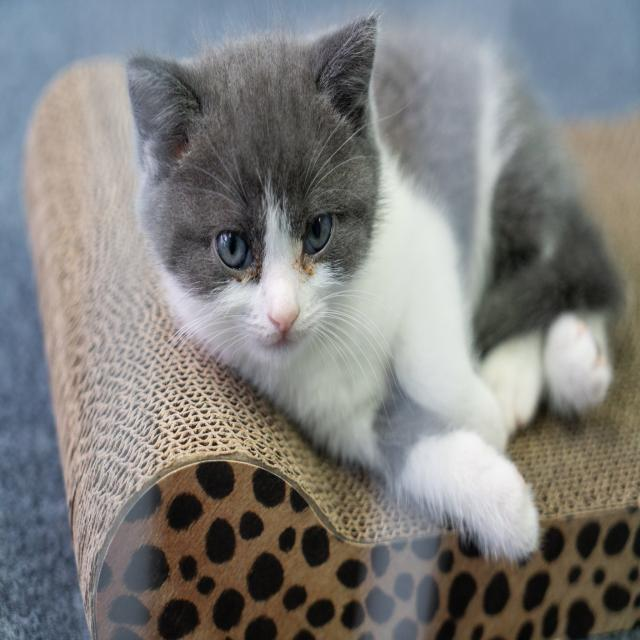cat: (136, 50, 382, 352)
